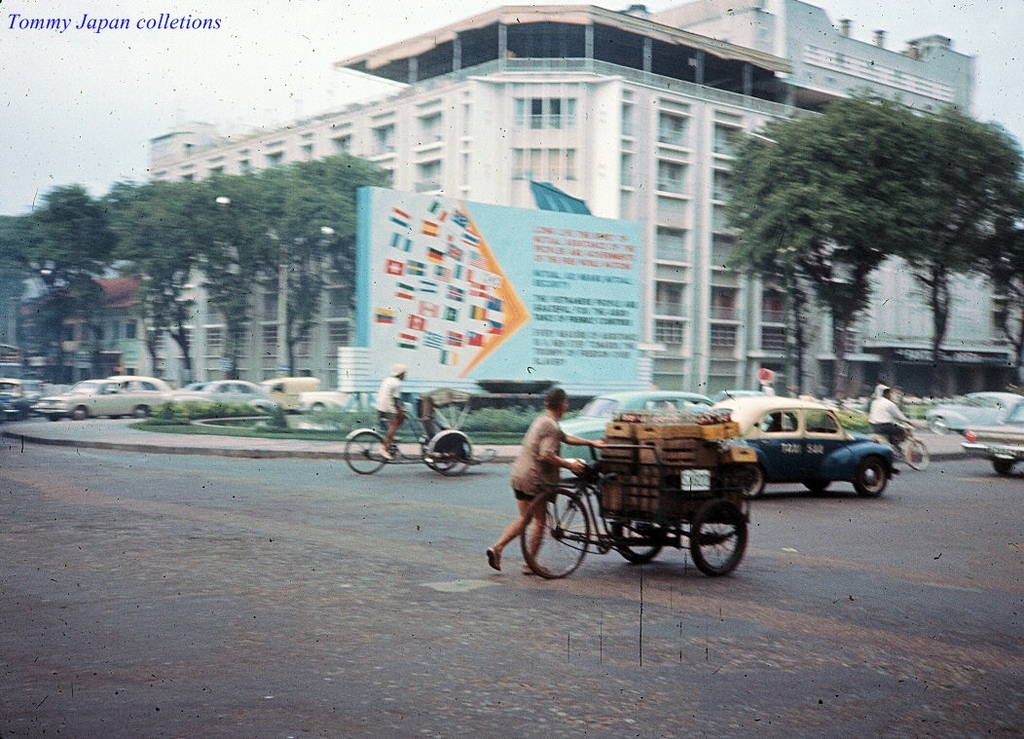Car: (731, 398, 897, 505), (0, 374, 370, 419), (555, 386, 715, 461), (963, 394, 1023, 474), (924, 388, 1015, 436)
